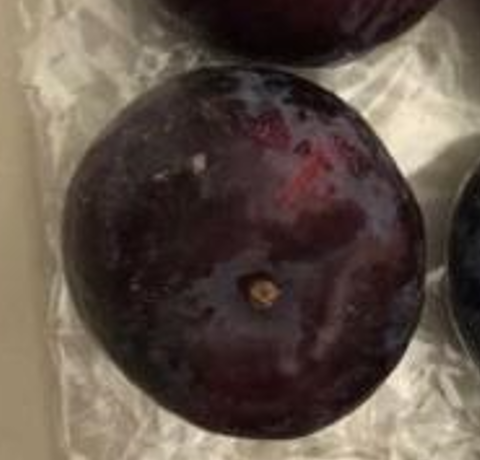plum_B: (62, 65, 427, 438)
